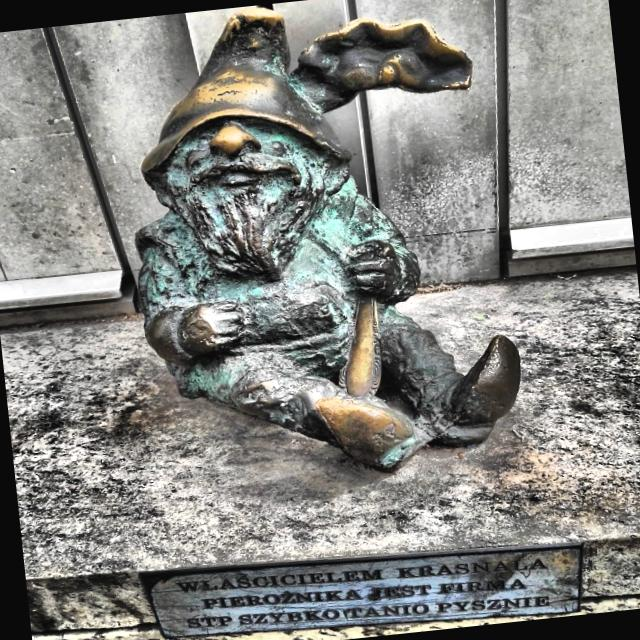Pieroznik: (137, 7, 522, 470)
